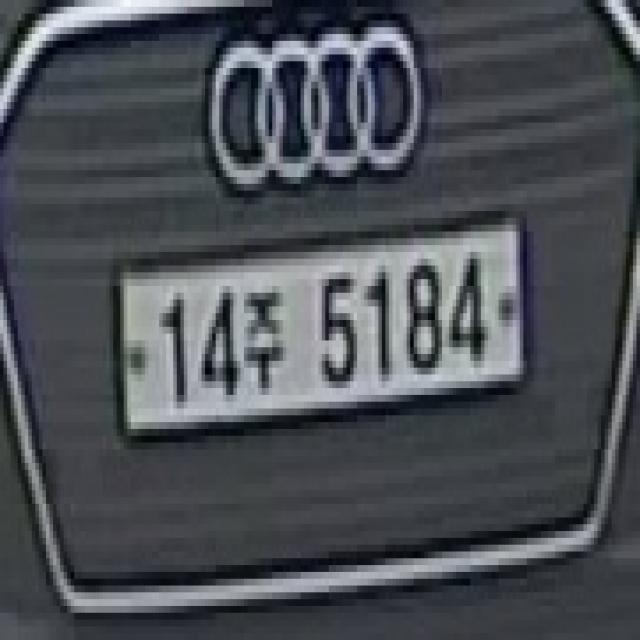1: (357, 252, 400, 395), (156, 272, 194, 422)
4: (446, 245, 495, 381), (198, 272, 240, 416)
5: (314, 258, 360, 402)
8: (400, 245, 449, 395)
ju: (240, 279, 286, 402)
license_plate: (106, 190, 538, 470)
